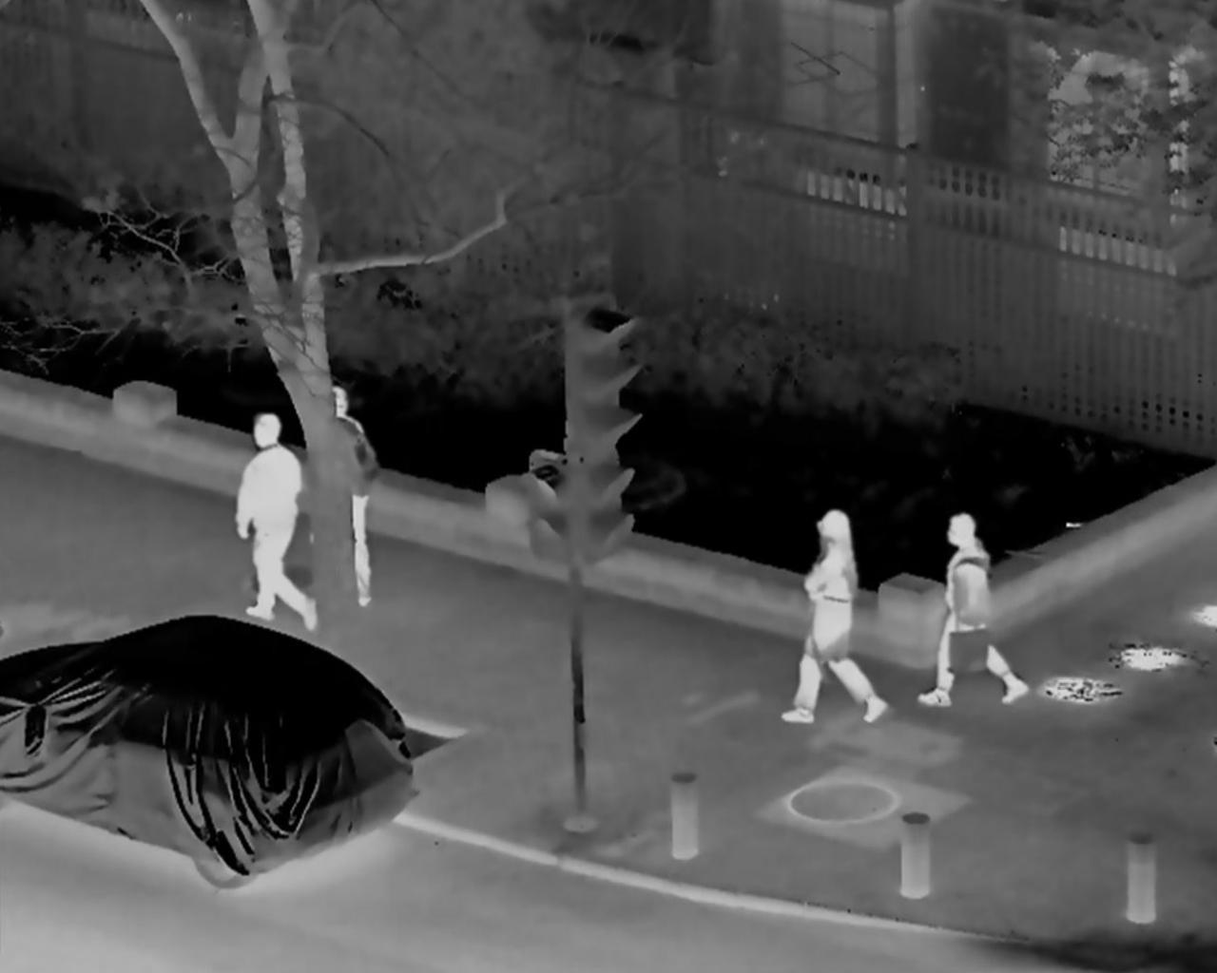person: (782, 511, 892, 725), (925, 514, 1030, 715), (238, 410, 317, 628), (311, 390, 375, 615)
